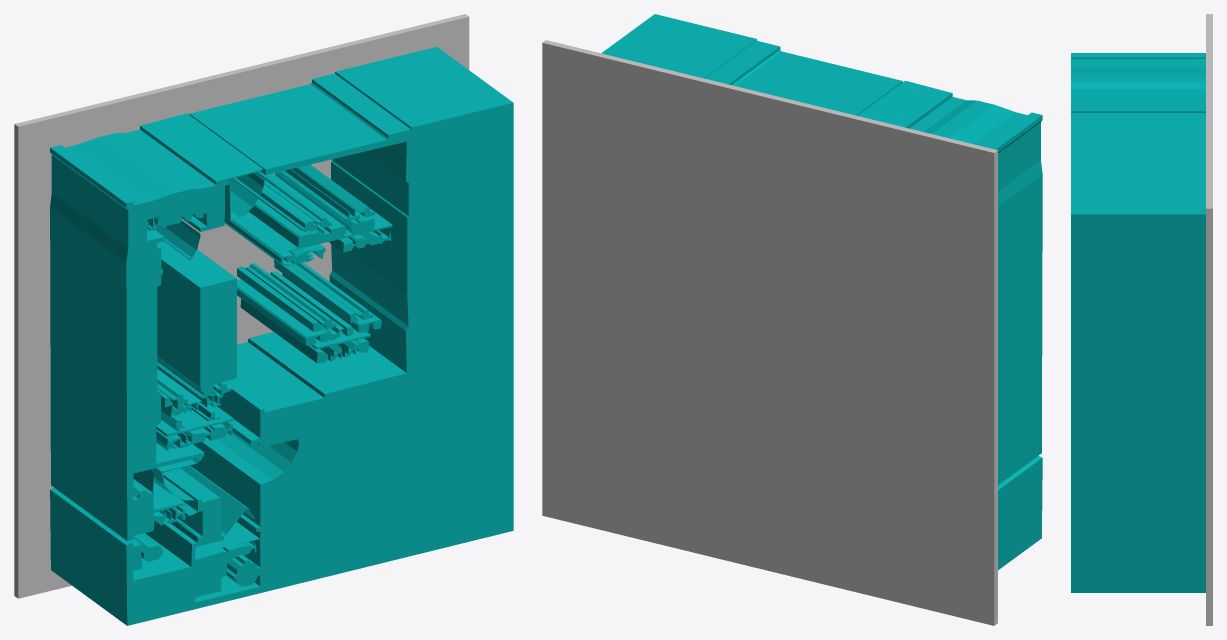
The picture shows the model from 3 angles, left to right: view 1: azimuth 30°, elevation 25°; view 2: azimuth 150°, elevation 25°; view 3: azimuth 270°, elevation 25°; orthographic projection. The views are drawn at different scales.
Visible parts, largest first — view 1: world; view 2: world; view 3: world.
Boxes of the visible parts, left/top/right/bottom form: world: left=14, top=14, right=513, bottom=625; world: left=542, top=14, right=1042, bottom=625; world: left=1071, top=14, right=1212, bottom=625.
Size of the model in its own units: 10.23 by 10.23 by 3.15.
